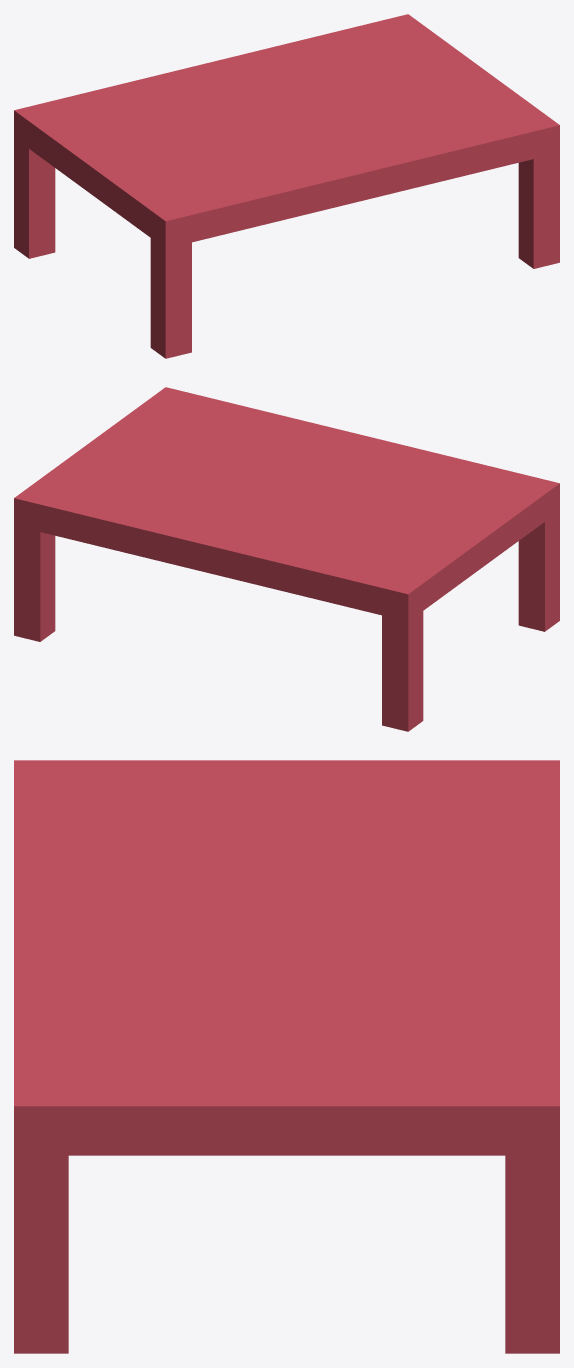
The model's file is Table Model.glb.
The picture shows the model from 3 angles, top to bottom: view 1: azimuth 30°, elevation 25°; view 2: azimuth 150°, elevation 25°; view 3: azimuth 270°, elevation 25°; orthographic projection. The views are drawn at different scales.
Parts seen in each view (by area): view 1: Mesh_Mesh_head_geo.001_lambert2SG.001; view 2: Mesh_Mesh_head_geo.001_lambert2SG.001; view 3: Mesh_Mesh_head_geo.001_lambert2SG.001.
Boxes of the visible parts, x1,y1,x2,y2 form: Mesh_Mesh_head_geo.001_lambert2SG.001: [14, 14, 559, 358]; Mesh_Mesh_head_geo.001_lambert2SG.001: [14, 387, 559, 731]; Mesh_Mesh_head_geo.001_lambert2SG.001: [14, 760, 559, 1353].
Bounding box in the file's own units: 30 × 10 × 20.
